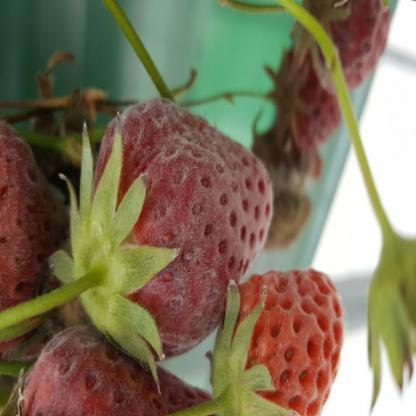Strawberry_Powdery_Mildew_Fruit: (73, 96, 275, 363), (11, 326, 218, 415), (0, 119, 70, 357)
